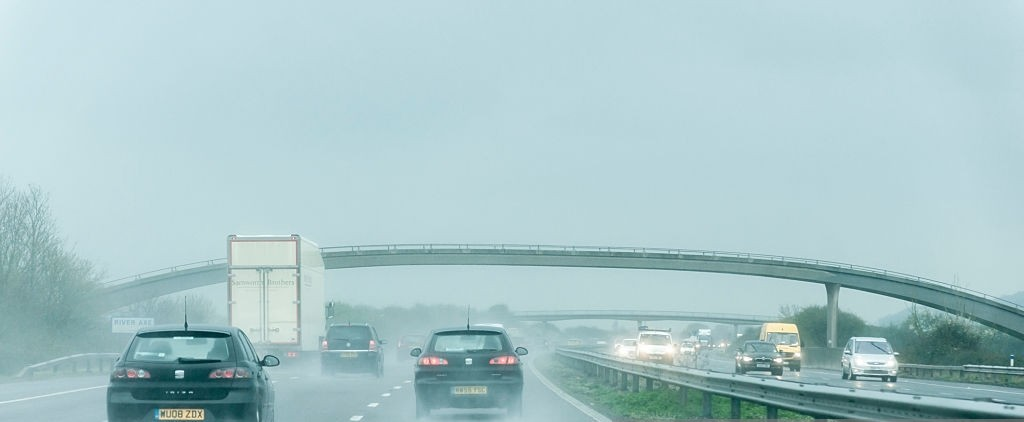car: (107, 323, 271, 421), (413, 327, 525, 418), (315, 323, 384, 376), (838, 336, 899, 382), (754, 323, 801, 368), (733, 339, 786, 375), (637, 326, 675, 362), (397, 330, 428, 361), (616, 337, 641, 357)
truck: (228, 231, 332, 363)
